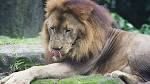lion: (2, 2, 150, 83)
